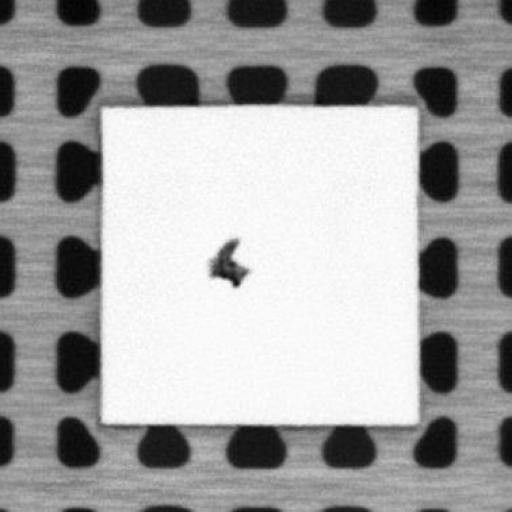DIE_INK: (202, 234, 250, 288)
